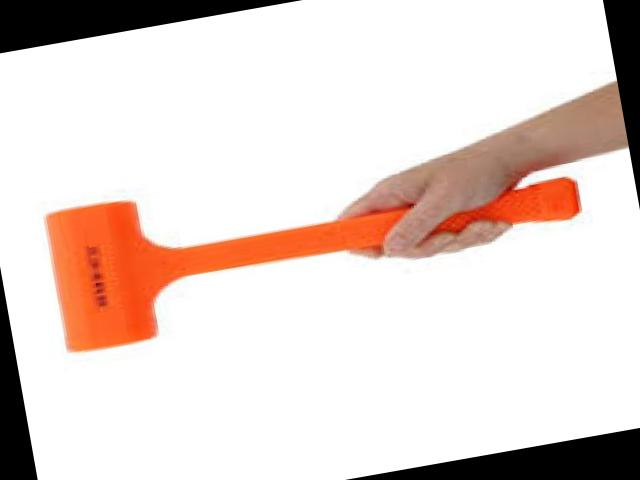hammer: (41, 119, 588, 355)
